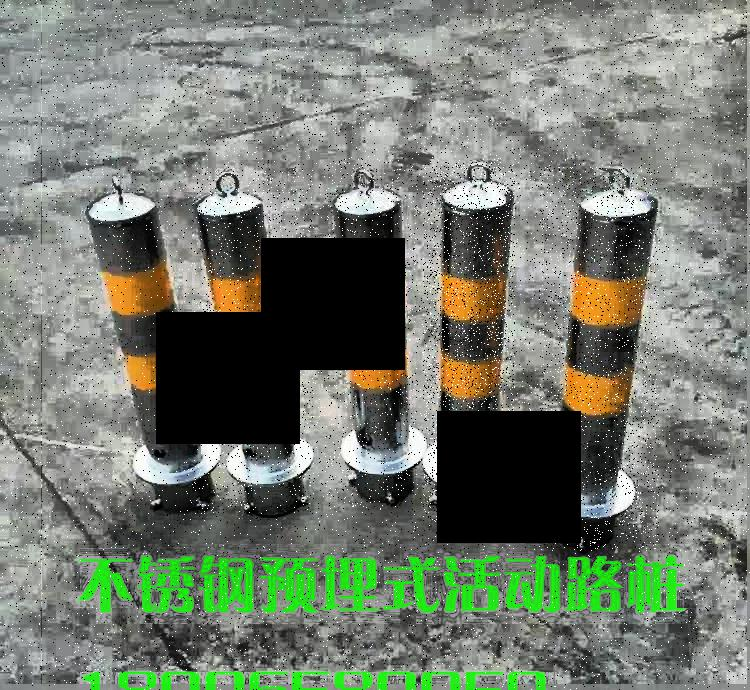bench: (539, 167, 660, 551), (192, 170, 315, 515), (423, 162, 516, 523), (324, 158, 419, 510)
